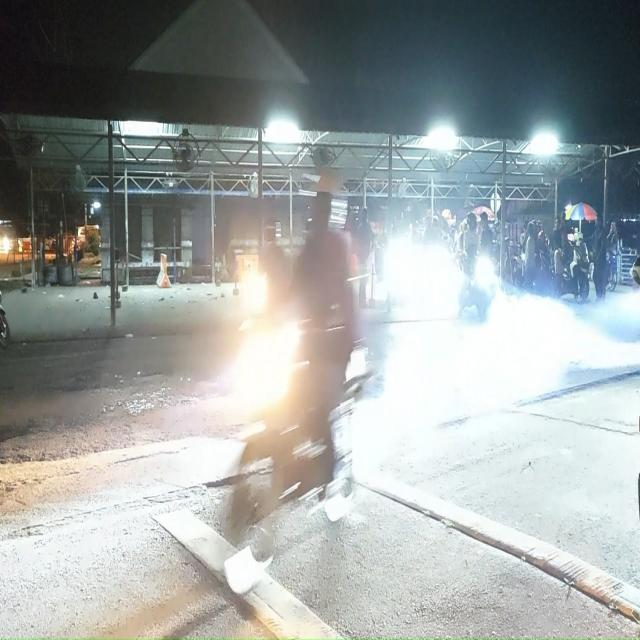Golongan II: (224, 318, 371, 594), (458, 253, 498, 320), (555, 244, 590, 303), (503, 237, 523, 287), (606, 250, 618, 292)
